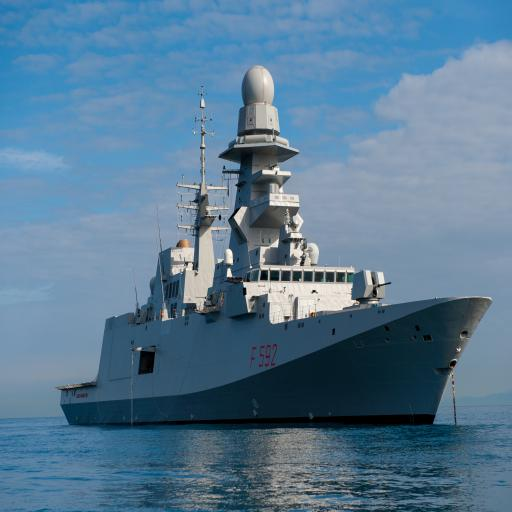Fragata: (1, 53, 342, 434)
